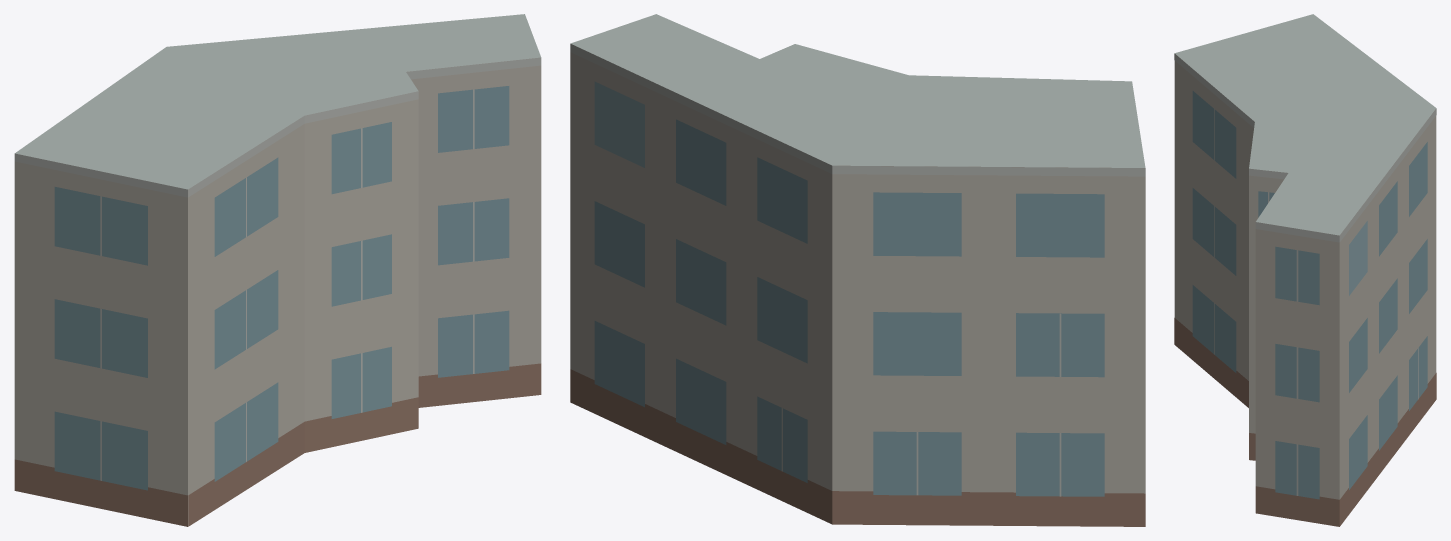
The model's file is survey-upis-32559818.glb.
3 renders of one model, left to right at view 1: azimuth 30°, elevation 25°; view 2: azimuth 150°, elevation 25°; view 3: azimuth 270°, elevation 25°, orthographic. The views are drawn at different scales.
Parts seen in each view (by area): view 1: survey-upis-32559818.tmp; view 2: survey-upis-32559818.tmp; view 3: survey-upis-32559818.tmp.
Boxes of the visible parts, x1,y1,x2,y2 form: survey-upis-32559818.tmp: (14, 14, 541, 526); survey-upis-32559818.tmp: (570, 14, 1145, 526); survey-upis-32559818.tmp: (1174, 14, 1436, 526).
Bounding box in the file's own units: 16.64 × 10.2 × 8.32.
